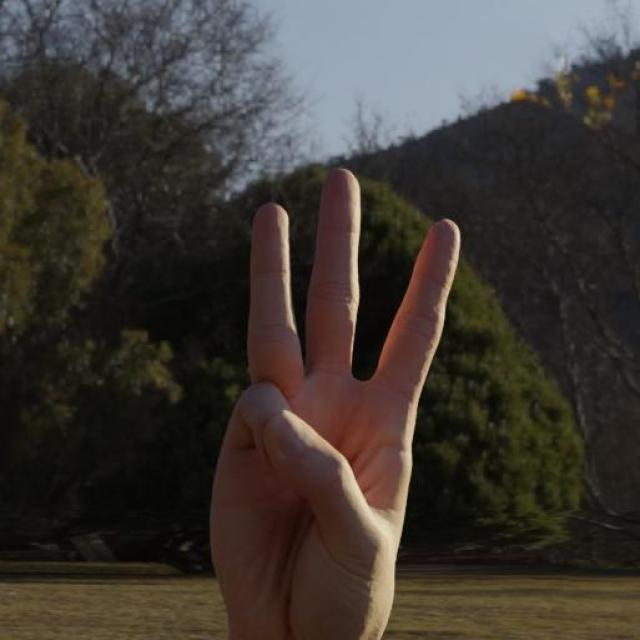W: (206, 162, 464, 640)
